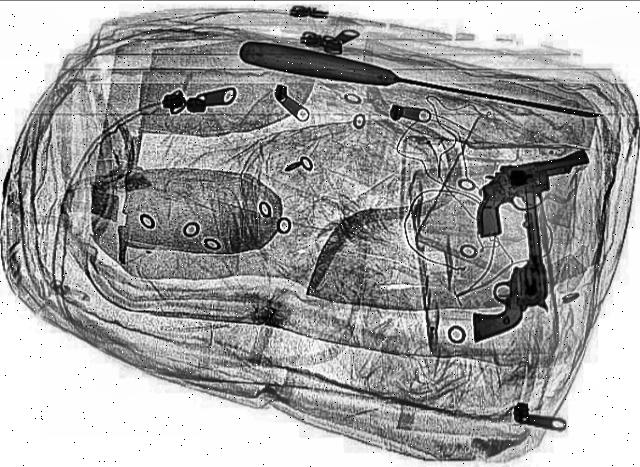Gun: (461, 185, 552, 343), (454, 150, 610, 240)
Knife: (234, 40, 606, 128)
